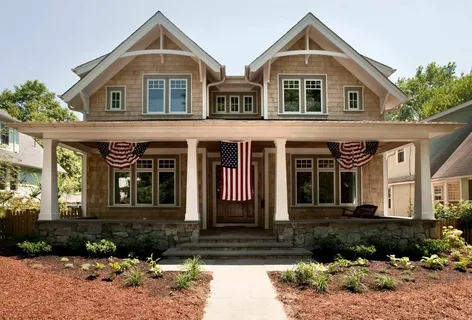private_hause: (84, 16, 397, 247)
